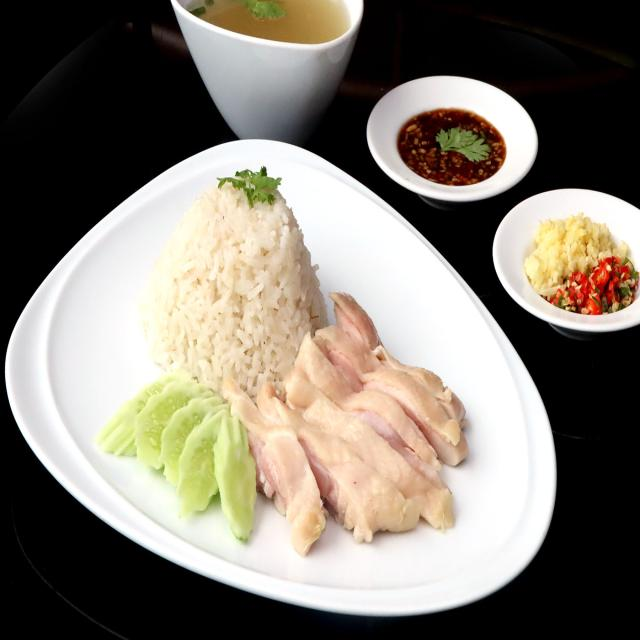Carbohydrate: (140, 167, 324, 400)
Kaow-Mankai: (86, 162, 501, 578)
Protein: (231, 290, 468, 557)
Vegetable: (98, 373, 259, 546)
